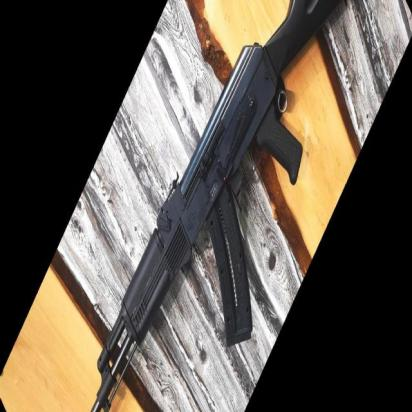Gun: (90, 0, 337, 412)
